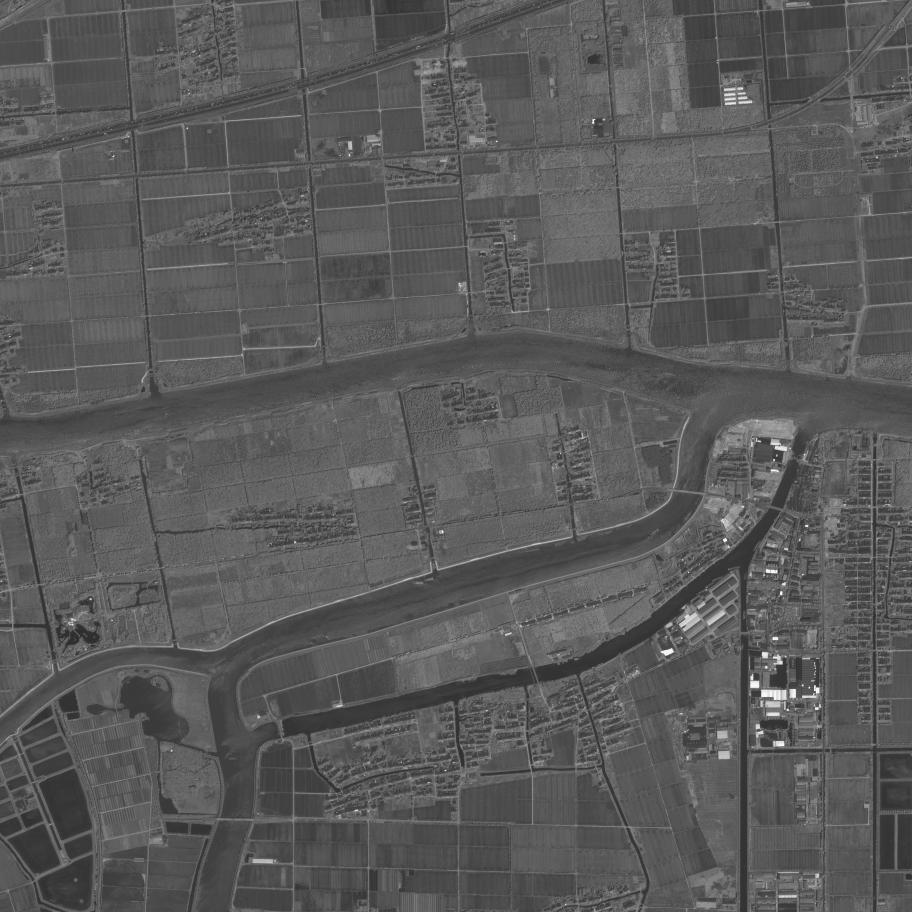ship: (647, 528, 659, 539), (678, 602, 689, 613), (752, 540, 762, 552), (689, 594, 700, 604), (114, 412, 130, 418), (696, 588, 708, 596), (661, 371, 676, 377), (712, 575, 723, 583), (704, 582, 714, 590), (163, 410, 176, 416), (728, 565, 740, 571), (424, 577, 435, 582), (412, 581, 424, 584)
